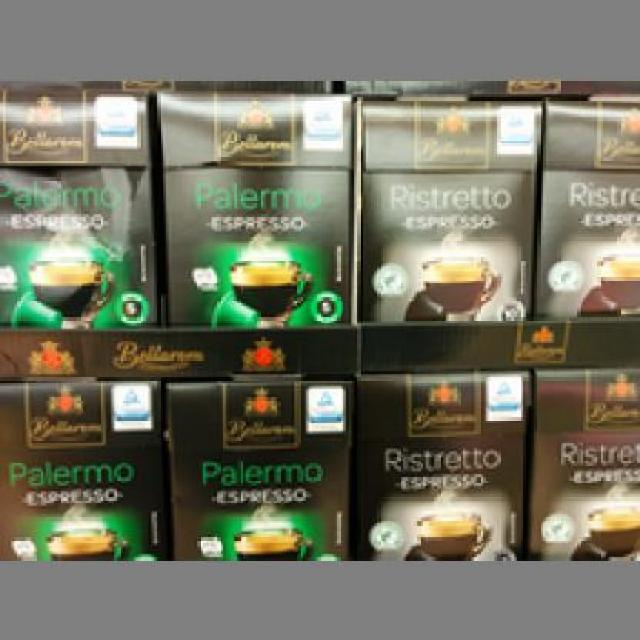Coffee: (154, 86, 352, 320), (352, 94, 534, 317), (0, 87, 155, 326), (160, 380, 351, 554), (354, 372, 526, 554), (0, 377, 157, 560), (540, 88, 637, 314), (532, 369, 638, 560)
